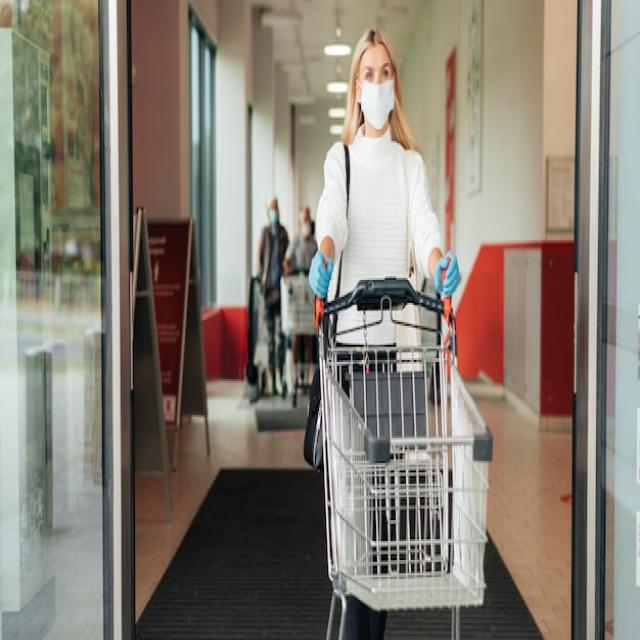Person: (310, 28, 462, 293)
